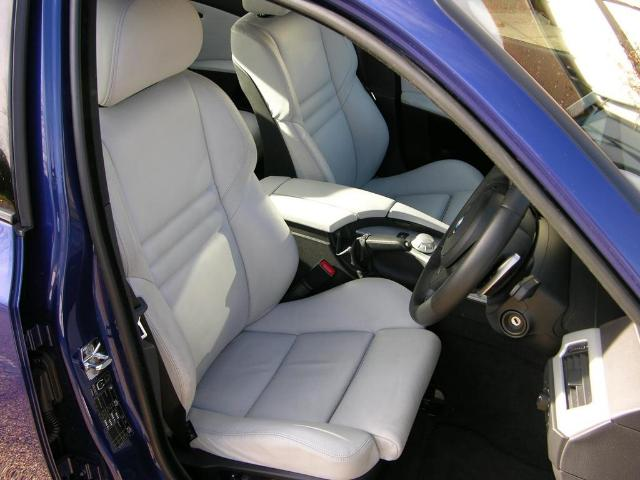Seatbelt: (131, 289, 161, 417)
